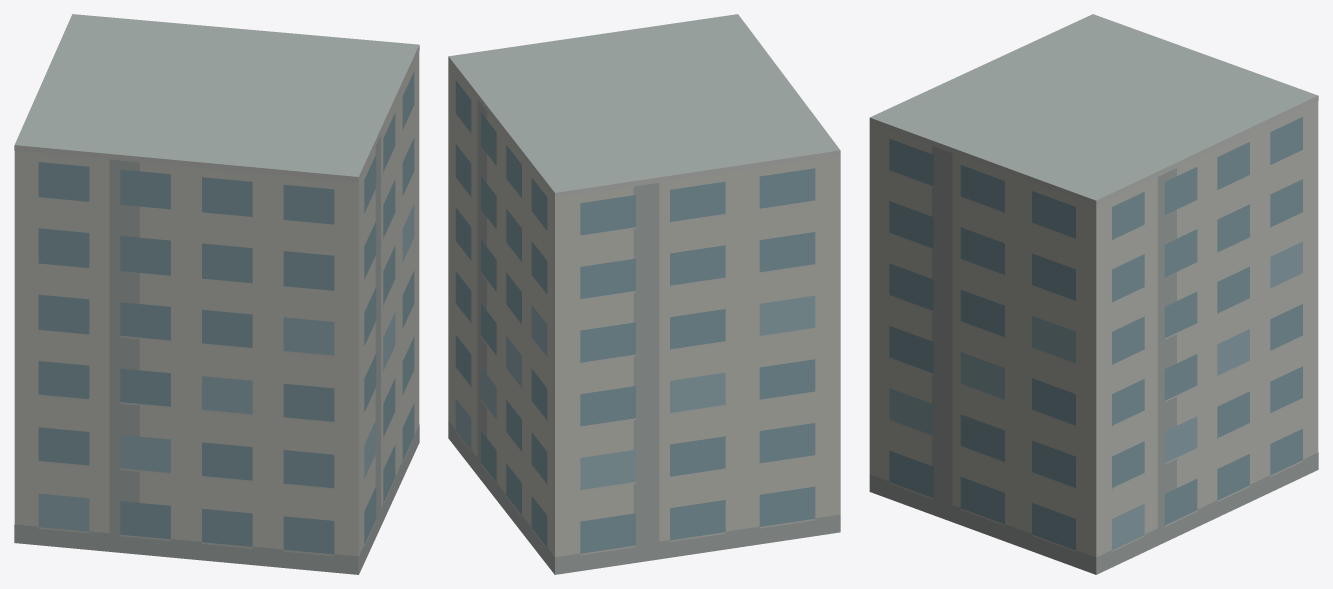
Rendered from survey-upis-32893282.glb.
The picture shows the model from 3 angles, left to right: view 1: azimuth 30°, elevation 25°; view 2: azimuth 150°, elevation 25°; view 3: azimuth 270°, elevation 25°; orthographic projection. The views are drawn at different scales.
Visible parts, largest first — view 1: survey-upis-32893282.tmp; view 2: survey-upis-32893282.tmp; view 3: survey-upis-32893282.tmp.
Boxes of the visible parts, x1=… form: survey-upis-32893282.tmp: x1=14, y1=14, x2=419, y2=574; survey-upis-32893282.tmp: x1=448, y1=14, x2=840, y2=574; survey-upis-32893282.tmp: x1=869, y1=14, x2=1318, y2=574.
Bounding box in the file's own units: 18.19 × 17 × 18.49.
